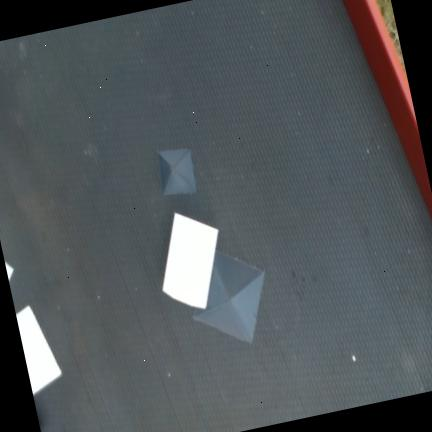Piramide: (193, 250, 265, 343), (16, 305, 63, 395), (157, 148, 197, 196)
Prisma_hexagonal: (162, 211, 219, 309)
